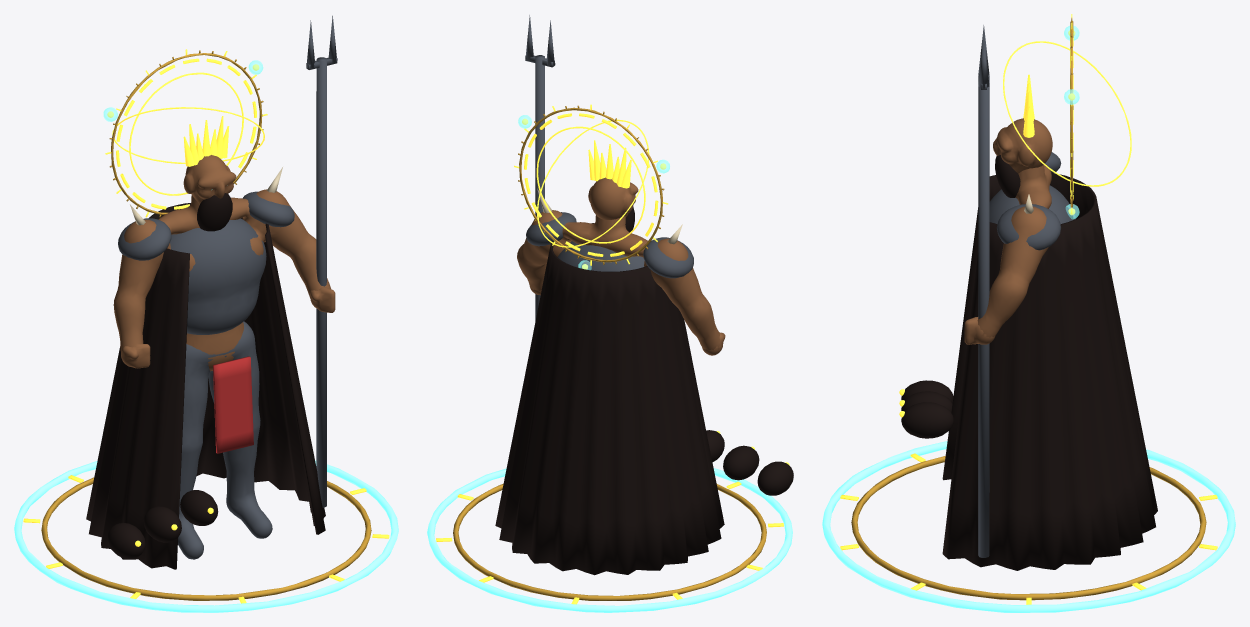
File: hades.glb
The picture shows the model from 3 angles, left to right: view 1: azimuth 30°, elevation 25°; view 2: azimuth 150°, elevation 25°; view 3: azimuth 270°, elevation 25°; orthographic projection. The views are drawn at different scales.
Visible parts, largest first — view 1: shadow, iron, bronze_skin, ether, gold, amber, team; view 2: shadow, bronze_skin, iron, ether, gold, amber; view 3: shadow, iron, bronze_skin, ether, gold, amber.
Boxes of the visible parts, bbox=[...] form: shadow: bbox=[86, 193, 325, 569]; iron: bbox=[118, 15, 337, 559]; bronze_skin: bbox=[113, 155, 335, 371]; ether: bbox=[14, 189, 398, 612]; gold: bbox=[41, 50, 371, 600]; amber: bbox=[23, 49, 389, 603]; team: bbox=[213, 356, 253, 453]; shadow: bbox=[495, 206, 793, 575]; bronze_skin: bbox=[517, 177, 725, 355]; iron: bbox=[525, 15, 693, 321]; ether: bbox=[427, 468, 792, 612]; gold: bbox=[453, 105, 766, 600]; amber: bbox=[436, 104, 789, 604]; shadow: bbox=[901, 155, 1157, 570]; iron: bbox=[978, 25, 1075, 557]; bronze_skin: bbox=[964, 118, 1052, 344]; ether: bbox=[822, 441, 1235, 612]; gold: bbox=[851, 17, 1206, 600]; amber: bbox=[840, 14, 1217, 604].
Bounding box in the file's own units: 2.39 × 3.48 × 2.39.
